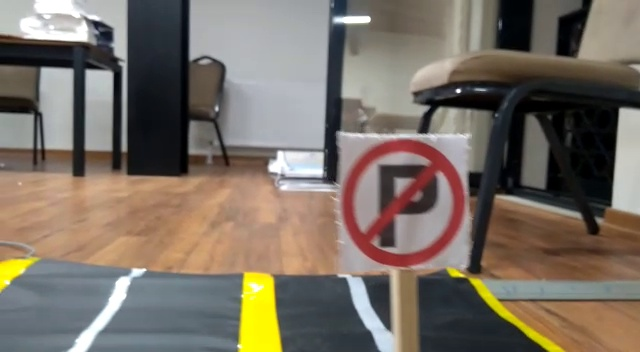park_yapilmaz: (335, 133, 468, 271)
